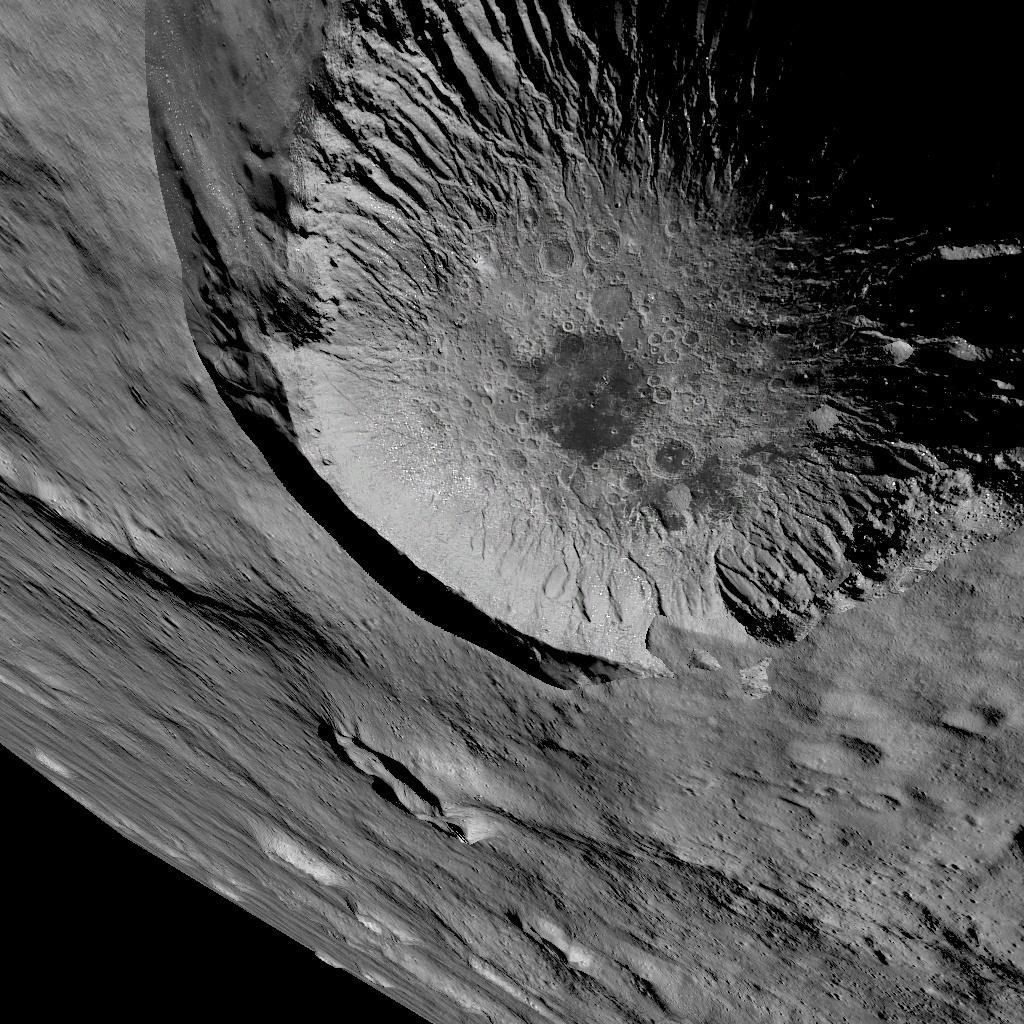Crater: (110, 2, 1022, 695), (274, 718, 465, 852)
Plan surface: (500, 715, 1024, 976)
